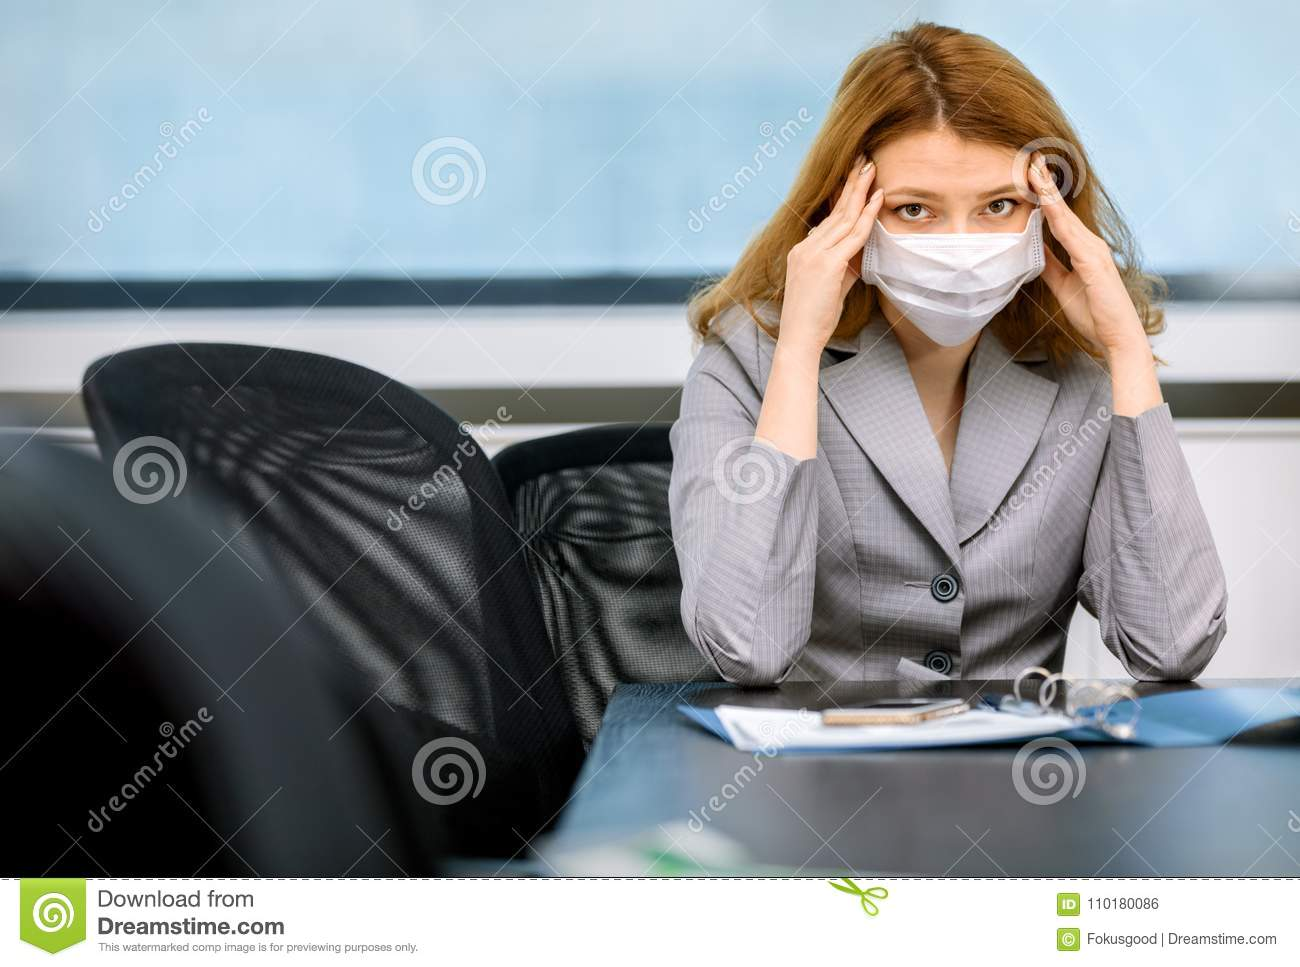mask: (860, 228, 1049, 358)
